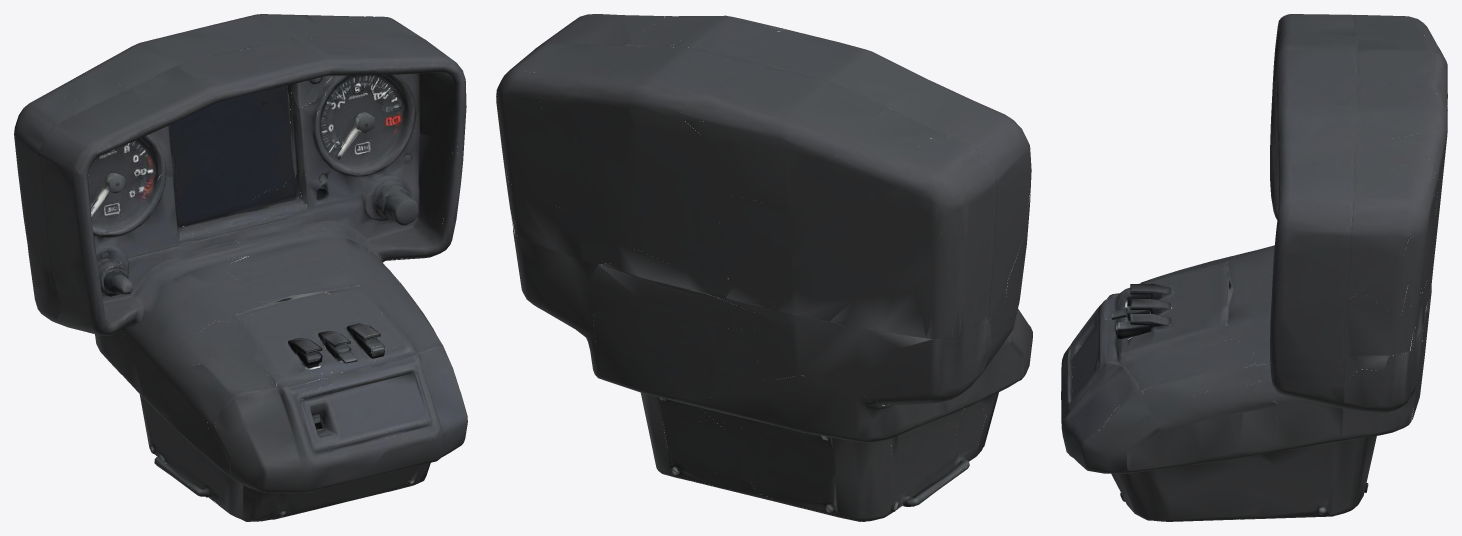
The model's file is cabine-console.glb.
3 views of the same model, side by side, from view 1: azimuth 30°, elevation 25°; view 2: azimuth 150°, elevation 25°; view 3: azimuth 270°, elevation 25° (orthographic). The views are drawn at different scales.
Parts seen in each view (by area): view 1: cabine-console; view 2: cabine-console; view 3: cabine-console.
Part boxes in pixels (box(x1,y1,x2,y2)): cabine-console: box(14, 14, 467, 521); cabine-console: box(496, 14, 1032, 521); cabine-console: box(1061, 14, 1447, 521).
Bounding box in the file's own units: 0.9805 × 0.9021 × 0.7831.
1 material, 1 textured.
